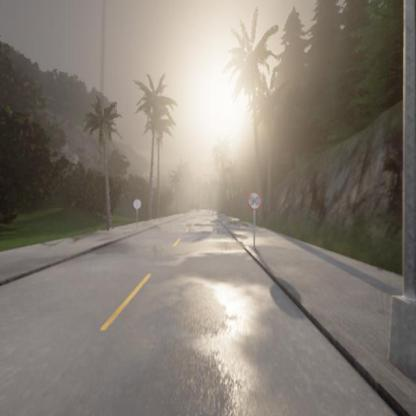traffic_sign_90: (248, 192, 261, 210)
